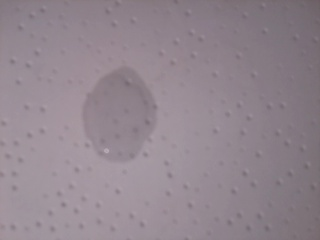Water_detected: (80, 73, 154, 159)
